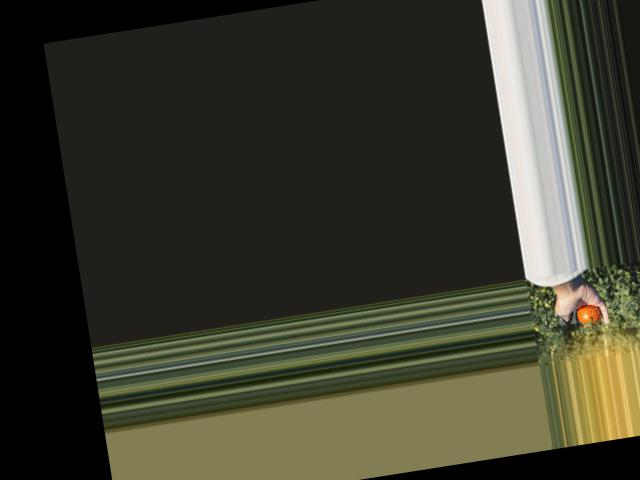tomato: (577, 303, 603, 327)
